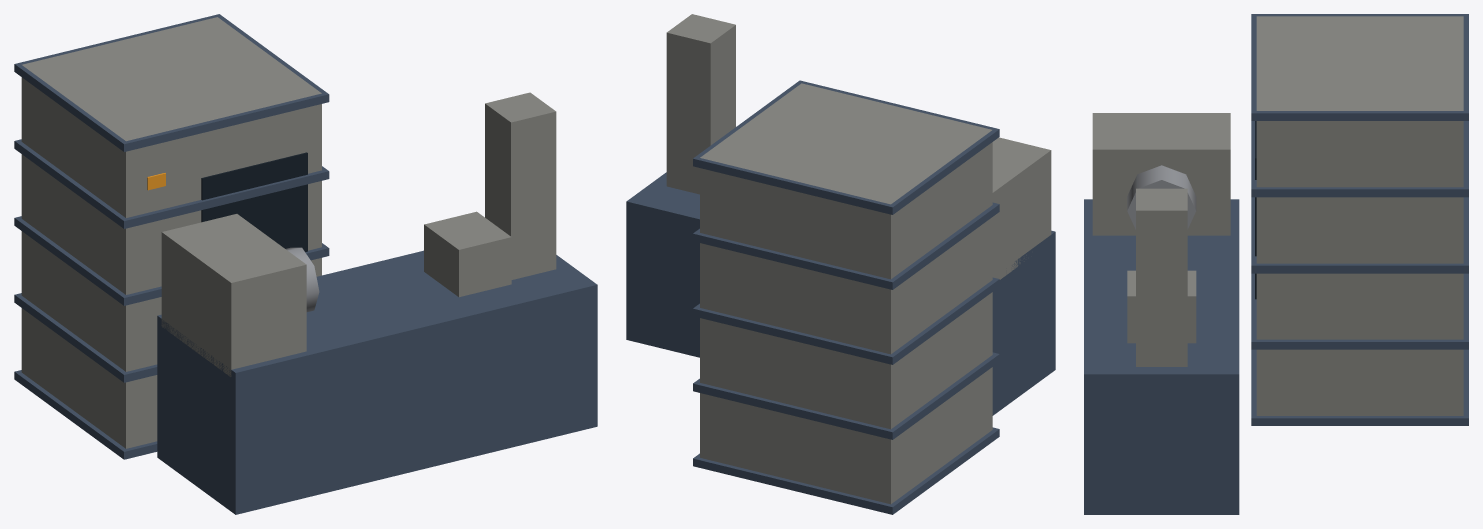
Rendered from ms1_fabricator.obj.
3 views of the same model, side by side, from view 1: azimuth 30°, elevation 25°; view 2: azimuth 150°, elevation 25°; view 3: azimuth 270°, elevation 25° (orthographic). The views are drawn at different scales.
Visible parts, largest first — view 1: ms1_fabricator; view 2: ms1_fabricator; view 3: ms1_fabricator.
Boxes of the visible parts, x1,y1,x2,y2 form: ms1_fabricator: [14, 14, 597, 514]; ms1_fabricator: [626, 14, 1055, 514]; ms1_fabricator: [1084, 14, 1468, 514].
Bounding box in the file's own units: 2.58 × 2 × 2.23.
